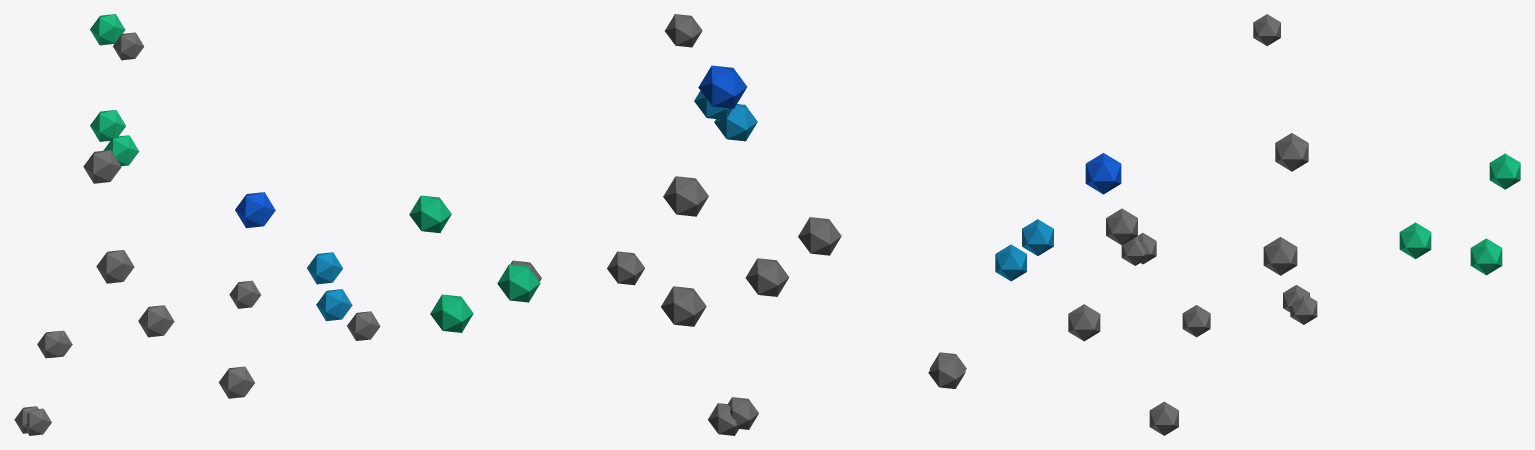
The picture shows the model from 3 angles, left to right: view 1: azimuth 30°, elevation 25°; view 2: azimuth 150°, elevation 25°; view 3: azimuth 270°, elevation 25°; orthographic projection. The views are drawn at different scales.
Parts seen in each view (by area): view 1: 08_02_01; view 2: 08_02_01; view 3: 08_02_01.
Boxes of the visible parts, left/top/right/bottom form: 08_02_01: left=14, top=14, right=380, bottom=435; 08_02_01: left=409, top=14, right=966, bottom=435; 08_02_01: left=995, top=14, right=1520, bottom=435.
Size of the model in its own units: 0.4819 by 0.403 by 0.5805.
